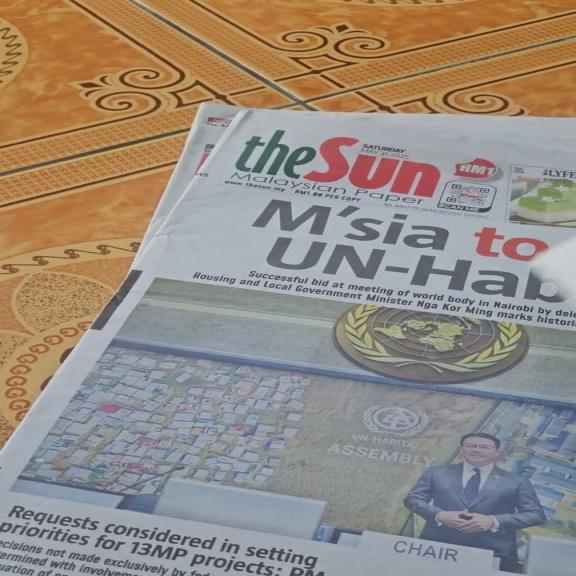Kertas: (204, 112, 560, 568)
